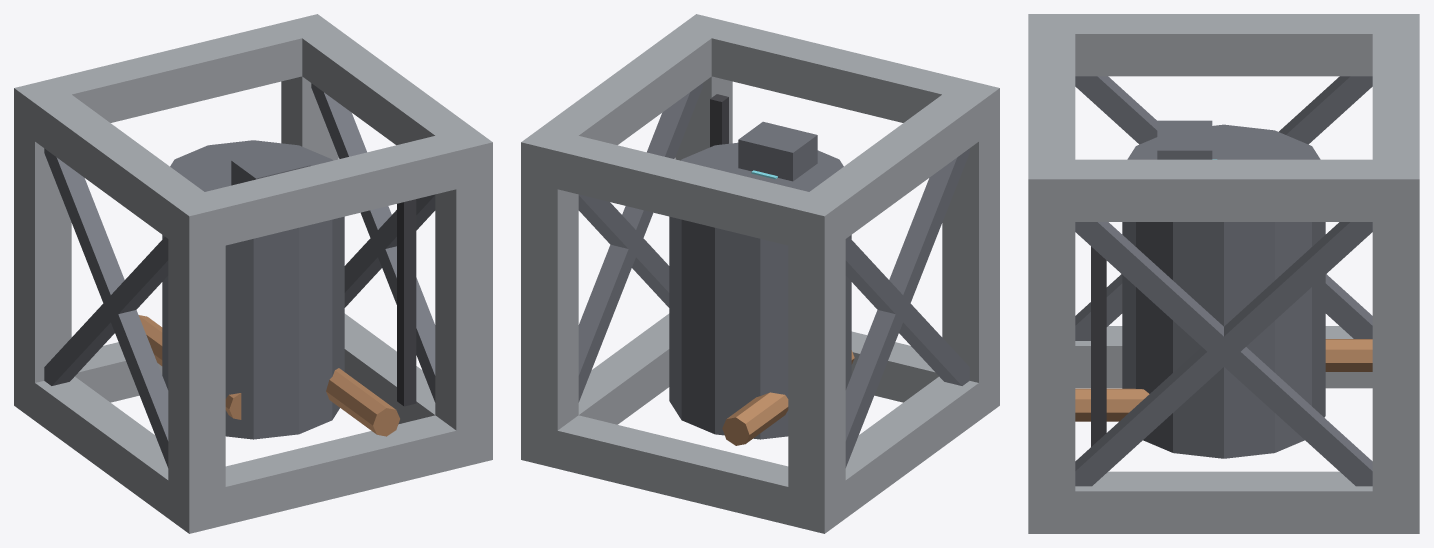
Rendered from hull_frame.glb.
3 renders of one model, left to right at view 1: azimuth 30°, elevation 25°; view 2: azimuth 150°, elevation 25°; view 3: azimuth 270°, elevation 25°, orthographic. The views are drawn at different scales.
Bounding box in the file's own units: 1 × 1 × 1.
